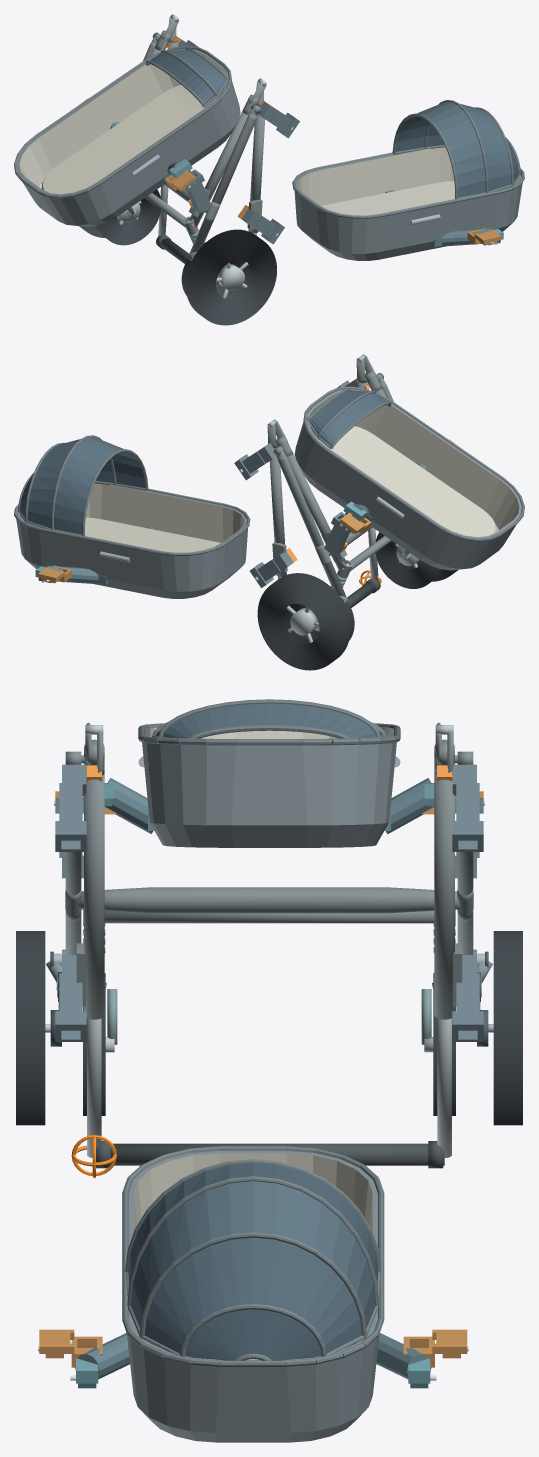
The model's file is D03_w650_state3_wheel_M.glb.
The picture shows the model from 3 angles, top to bottom: view 1: azimuth 30°, elevation 25°; view 2: azimuth 150°, elevation 25°; view 3: azimuth 270°, elevation 25°; orthographic projection. The views are drawn at different scales.
Visible parts, largest first — view 1: D03_Upper, D03_Lower, RL_tire.011, FR_tire.011, V46_rear_leg_-1.011, main_lower_-1.012, main_upper_-1.012, Universal_Cabin_Receiver_H_-1, Universal_Cabin_Receiver_M_-1, D03_Upper_Mount_H, Universal_Cabin_Receiver_L_-1, RL_sealed_hub.011 (+5 smaller); view 2: D03_Upper, D03_Lower, RR_tire.011, FL_tire.011, V46_rear_leg_1.011, main_lower_1.012, main_upper_1.012, Universal_Cabin_Receiver_H_1, Universal_Cabin_Receiver_M_1, D03_Upper_Mount_H, Universal_Cabin_Receiver_L_1, RR_sealed_hub.011 (+5 smaller); view 3: D03_Upper, D03_Lower, V46_rearbar.011, RL_tire.011, RR_tire.011, main_upper_1.012, main_upper_-1.012, round_handle.013, front_fixed_round_tube.011, D03_Upper_Mount_H, D03_Lower_Mount_L, Universal_Cabin_Receiver_M_-1 (+12 smaller).
Boxes of the visible parts, x1,y1,x2,y2 form: D03_Upper: (292, 100, 524, 260); D03_Lower: (14, 46, 240, 226); RL_tire.011: (185, 229, 276, 325); FR_tire.011: (96, 189, 160, 245); V46_rear_leg_-1.011: (190, 113, 257, 252); main_lower_-1.012: (189, 112, 249, 227); main_upper_-1.012: (248, 106, 265, 233); Universal_Cabin_Receiver_H_-1: (241, 208, 284, 244); Universal_Cabin_Receiver_M_-1: (258, 101, 299, 138); D03_Upper_Mount_H: (385, 190, 503, 246); Universal_Cabin_Receiver_L_-1: (185, 169, 211, 213); RL_sealed_hub.011: (217, 264, 244, 290); D03_Upper: (14, 435, 250, 598); D03_Lower: (294, 386, 524, 570); RR_tire.011: (257, 573, 350, 670); FL_tire.011: (375, 532, 441, 588); V46_rear_leg_1.011: (277, 455, 345, 596); main_lower_1.012: (284, 452, 346, 570); main_upper_1.012: (269, 448, 286, 576); Universal_Cabin_Receiver_H_1: (250, 552, 293, 587); Universal_Cabin_Receiver_M_1: (234, 443, 276, 480); D03_Upper_Mount_H: (35, 527, 155, 584); Universal_Cabin_Receiver_L_1: (324, 512, 350, 556); RR_sealed_hub.011: (290, 608, 317, 635); D03_Upper: (122, 1146, 384, 1442); D03_Lower: (138, 699, 400, 847); V46_rearbar.011: (78, 887, 460, 913); RL_tire.011: (16, 931, 45, 1125); RR_tire.011: (493, 931, 522, 1125); main_upper_1.012: (434, 773, 454, 1019); main_upper_-1.012: (84, 773, 104, 1019); round_handle.013: (110, 1143, 444, 1165); front_fixed_round_tube.011: (104, 910, 434, 923); D03_Upper_Mount_H: (70, 1333, 436, 1388); D03_Lower_Mount_L: (104, 778, 434, 833); Universal_Cabin_Receiver_M_-1: (55, 764, 86, 851).
Bounding box in the file's own units: 1.7 × 0.7809 × 0.781.
